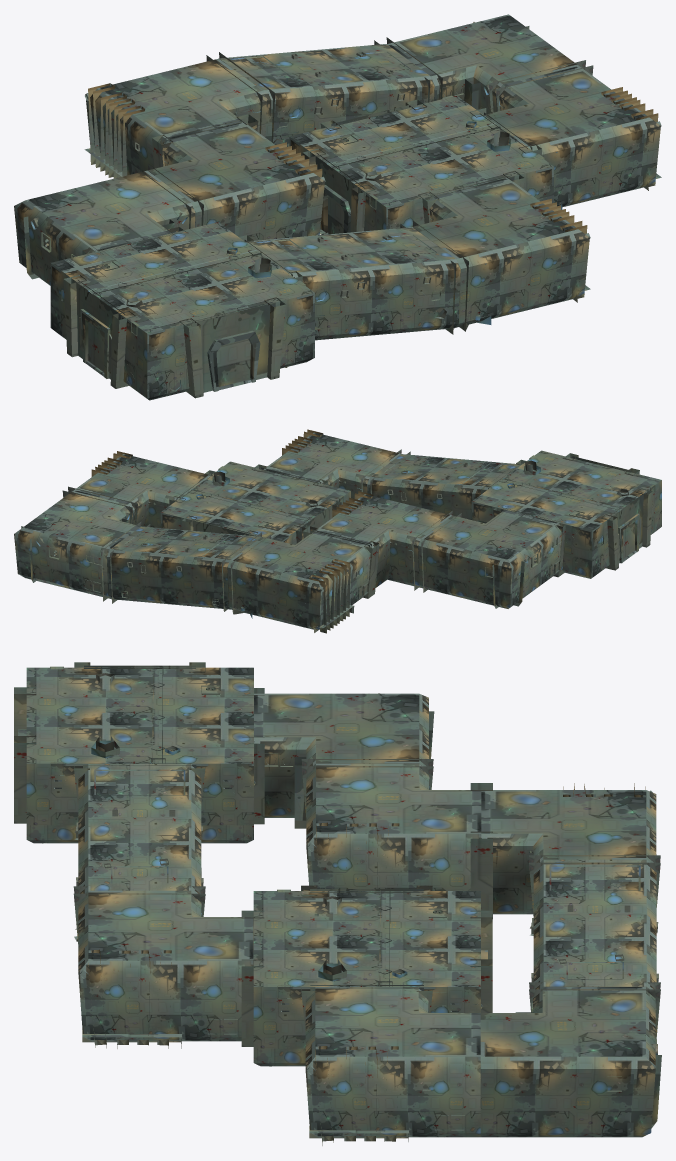
File: Combined_Mesh_root_scene__4_e0ea2853__zombies2_diffuse_02_6de118bf_c1f257.obj
3 views of the same model, one above another, from view 1: azimuth 30°, elevation 25°; view 2: azimuth 150°, elevation 25°; view 3: azimuth 270°, elevation 25° (orthographic). The views are drawn at different scales.
Size of the model in its own units: 76.84 by 12.64 by 57.04.
Materials: 171 (171 with a texture image).
